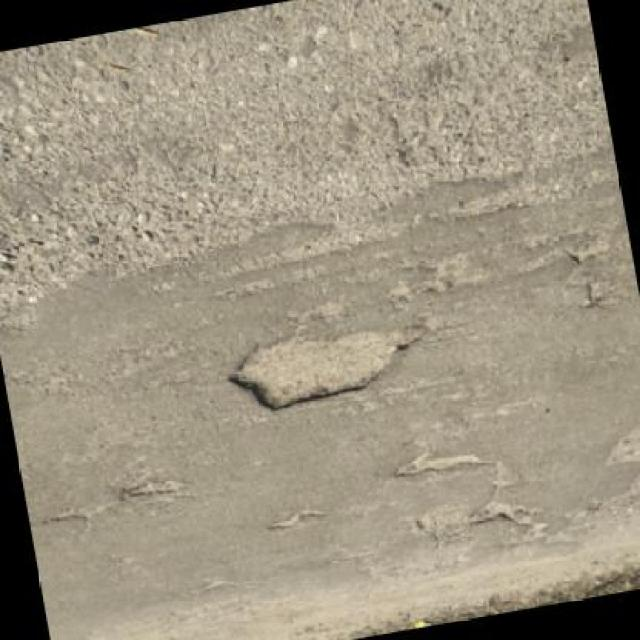pothole: (222, 313, 436, 422), (389, 448, 502, 483), (465, 492, 546, 540)
